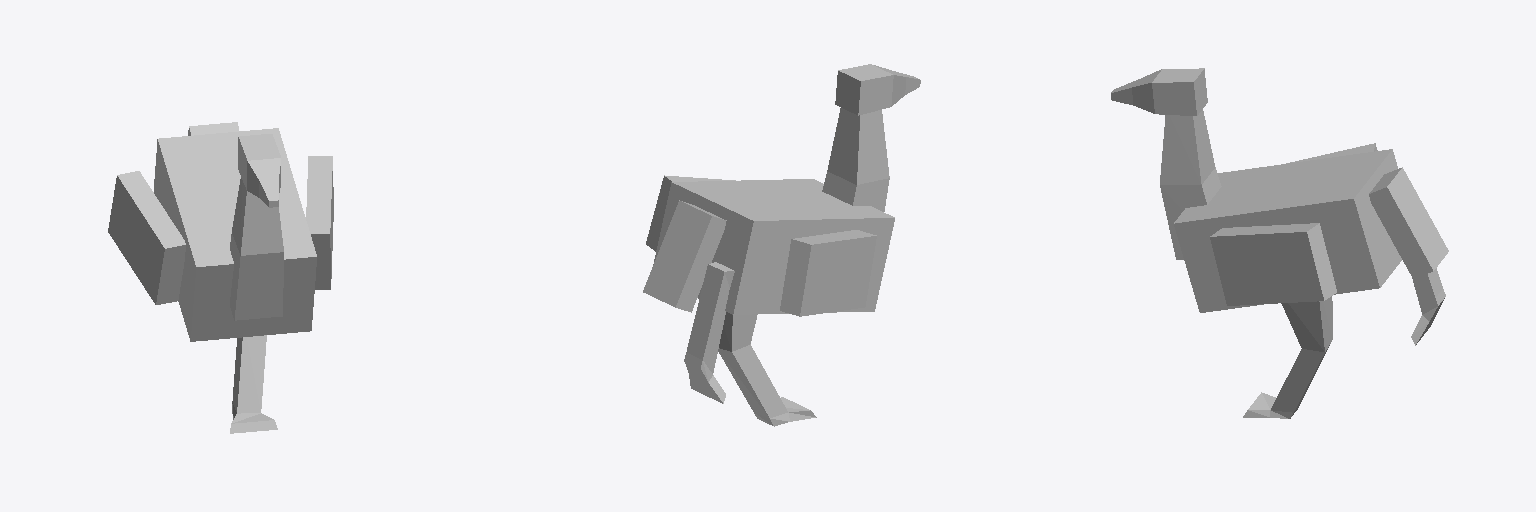
File: Ostrich_000084.obj
3 views of the same model, side by side, from view 1: azimuth 30°, elevation 25°; view 2: azimuth 150°, elevation 25°; view 3: azimuth 270°, elevation 25° (orthographic).
Visible parts, largest first — view 1: Cube_Cube.001; view 2: Cube_Cube.001; view 3: Cube_Cube.001.
Part boxes in pixels (left/top/right/bottom): Cube_Cube.001: left=108, top=122, right=333, bottom=433; Cube_Cube.001: left=643, top=64, right=920, bottom=426; Cube_Cube.001: left=1111, top=68, right=1448, bottom=418.
Bounding box in the file's own units: 0.9348 × 1.43 × 1.37.